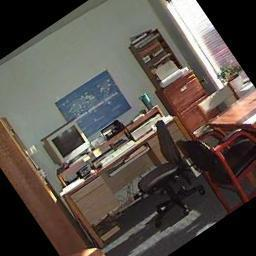Armario: (0, 113, 91, 256)
